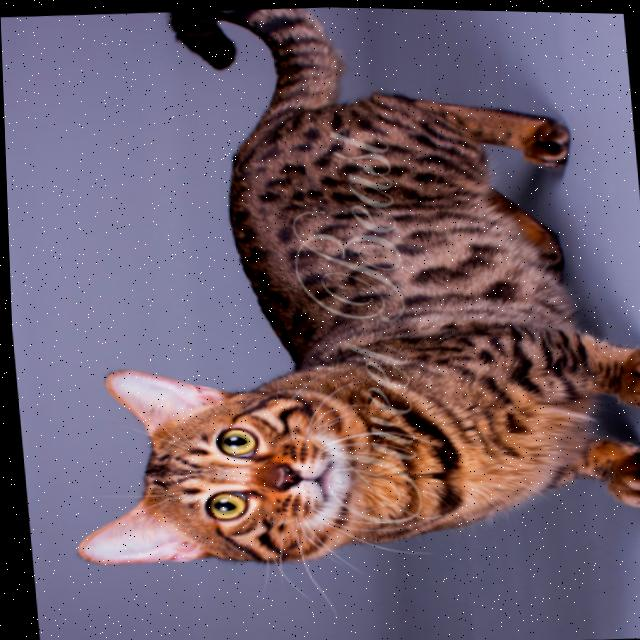Munchkin: (18, 0, 640, 579)
